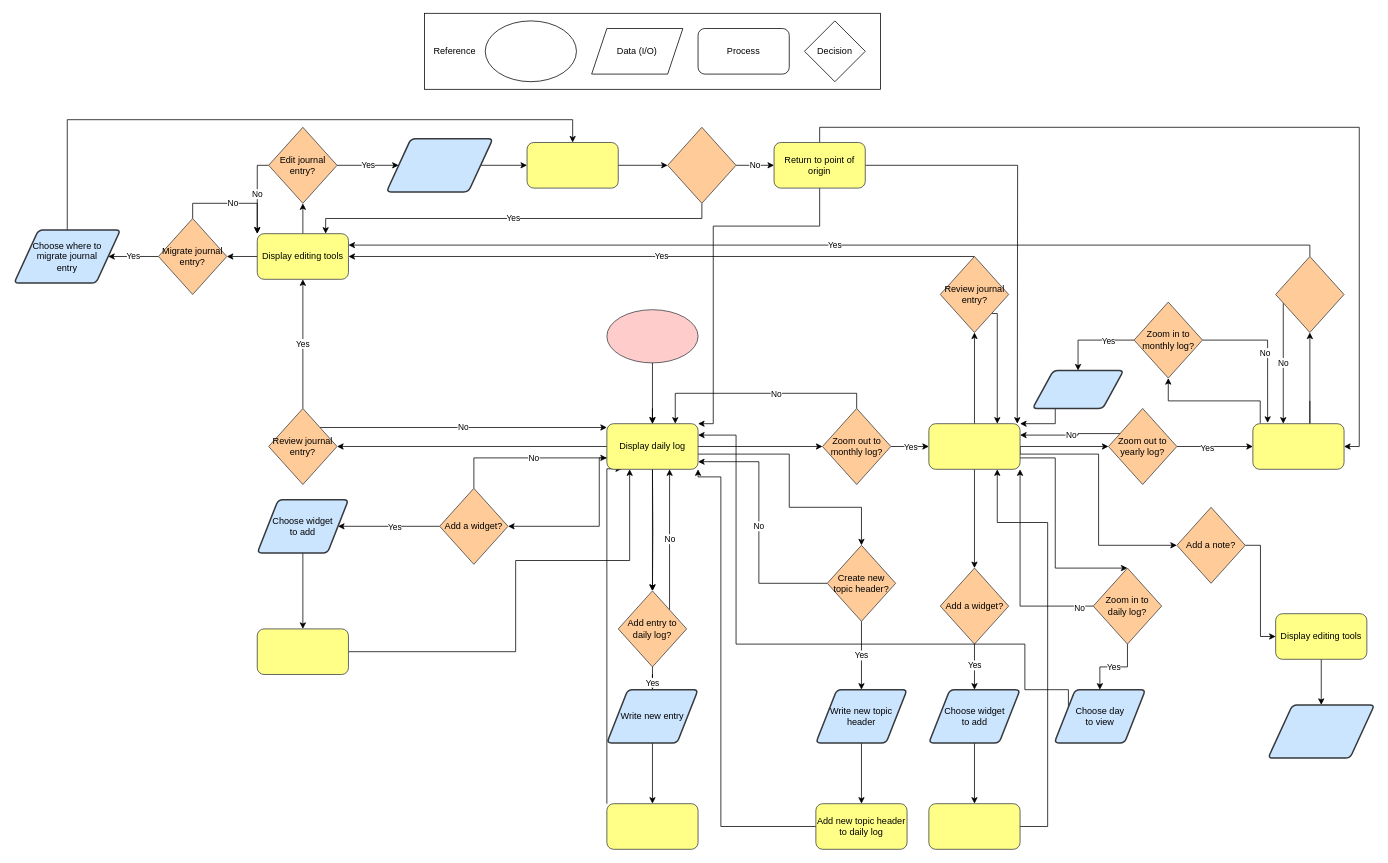
The diagram is 1388 pixels wide and 863 high, and some of its shapes have lost their labels. The shapes that lost their labels are listed below. From the top down, each one's box as (x1, y1, x2, y2) in pixels, then its label:
(484, 20, 576, 82): Terminator
(385, 138, 493, 192): Modify journal entry
(526, 142, 618, 188): Display Changed Entry
(667, 127, 736, 203): Continue editing?
(1275, 256, 1344, 332): Review journal entries?
(606, 309, 698, 363): Start
(1031, 369, 1124, 409): Choose month to view
(928, 423, 1020, 469): Display monthly log
(1252, 423, 1344, 469): Display yearly log
(256, 628, 348, 674): Add widget to current and future daily logs
(1267, 704, 1375, 758): Modify note
(606, 803, 698, 849): Add new entry to daily log
(928, 803, 1020, 849): Add widget to current and future monthly logs
